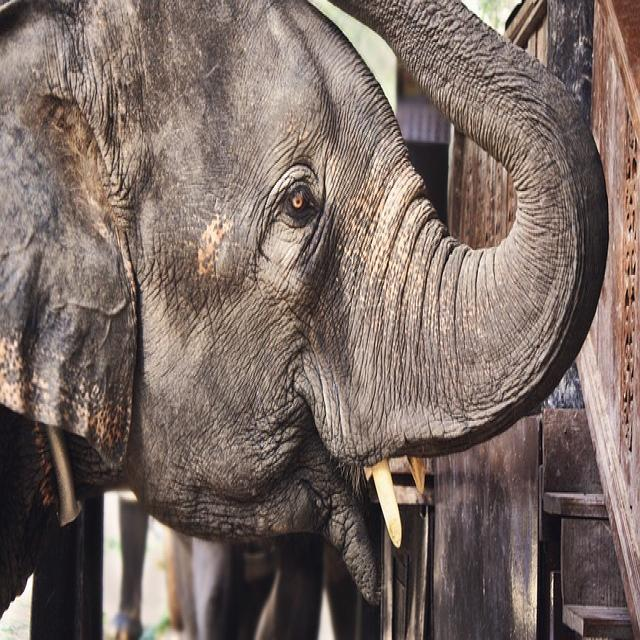elephant: (1, 2, 608, 613)
